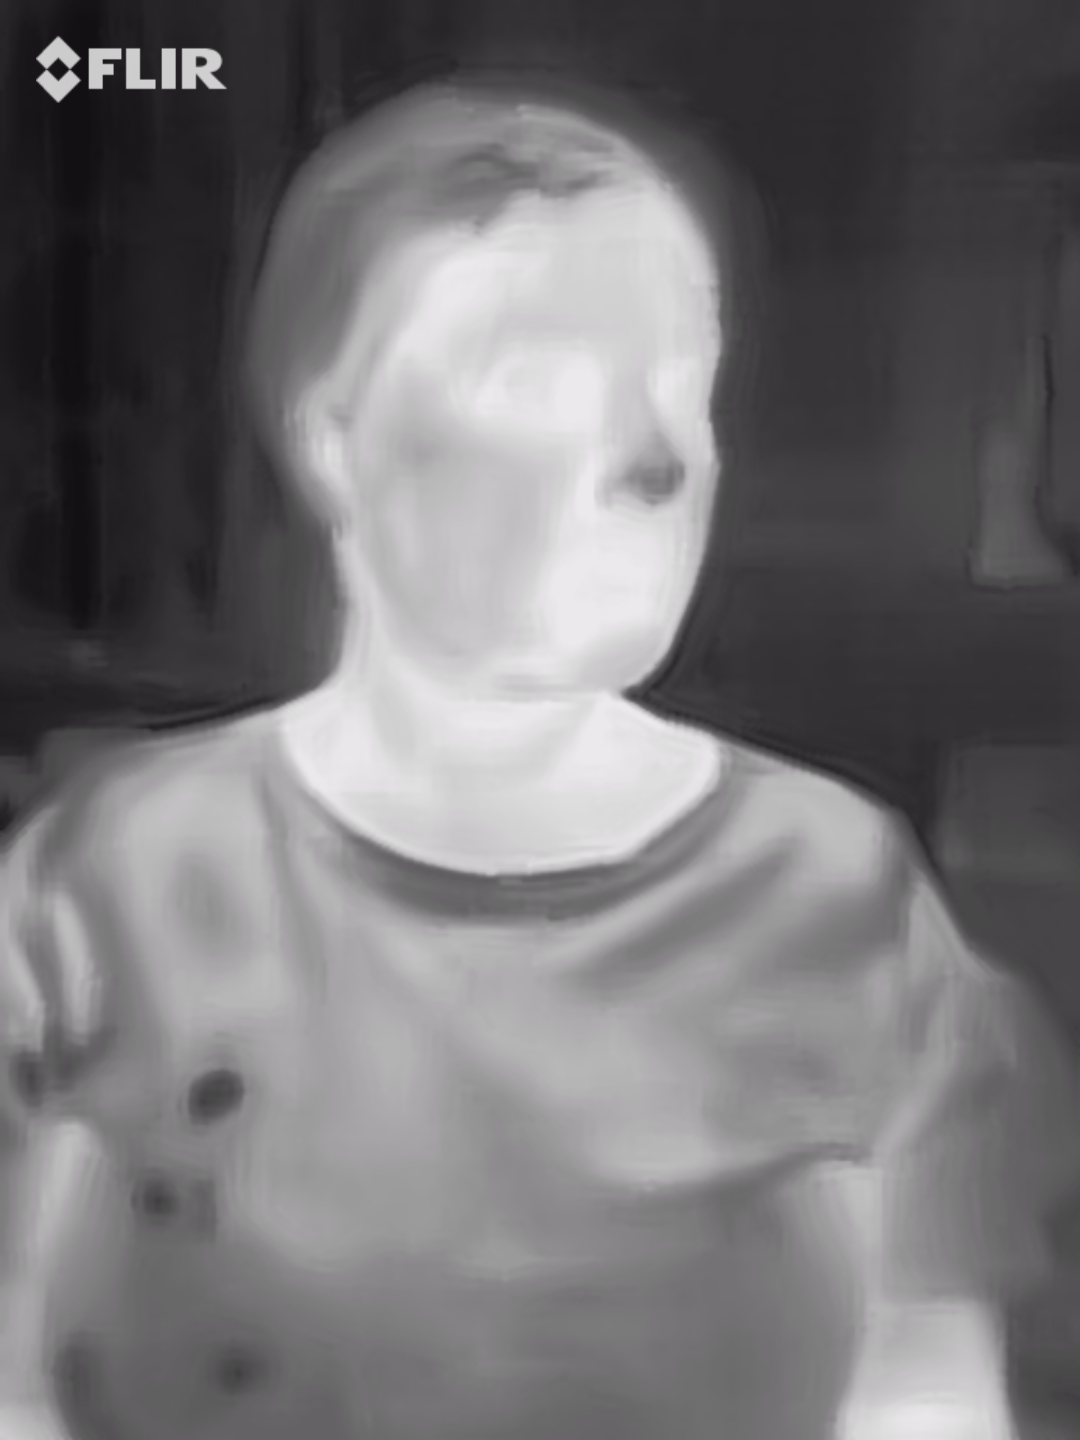head: (264, 82, 724, 710)
